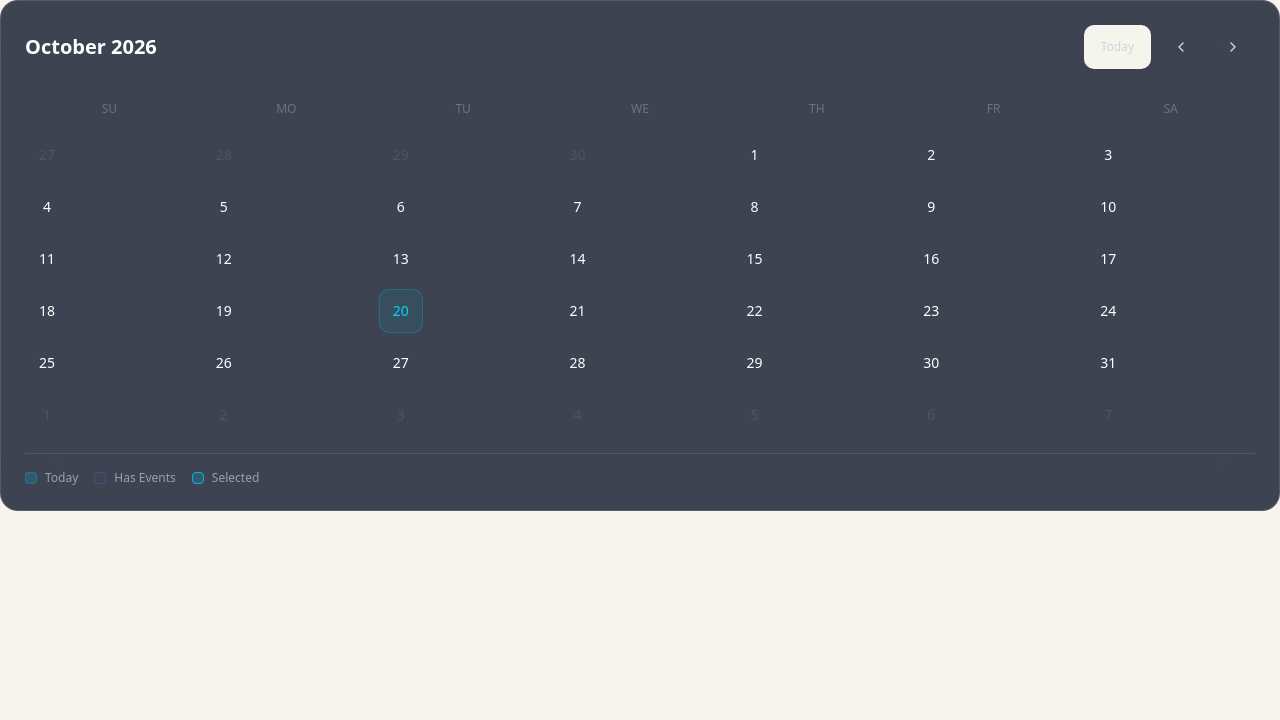
Test: EventCalendar › navigates to next month
The image size is (1280, 720).
Click the button named "Next month": x=1233, y=47 [1211,25,1255,69]
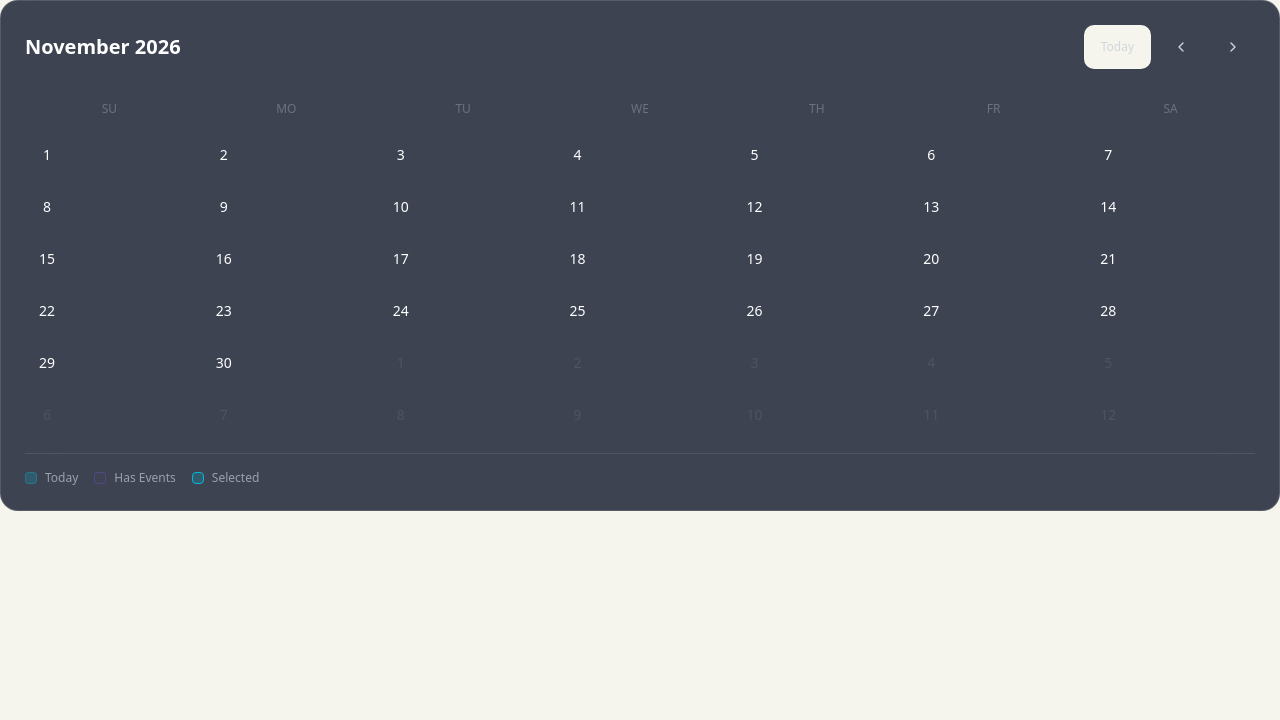
Now the heading "November 2026" is shown, box [25,33,181,61]
